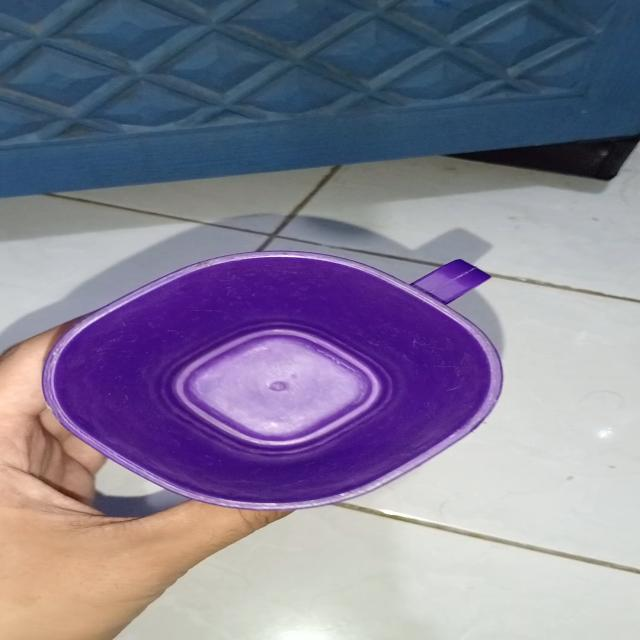gelas bekas: (39, 248, 506, 512)
